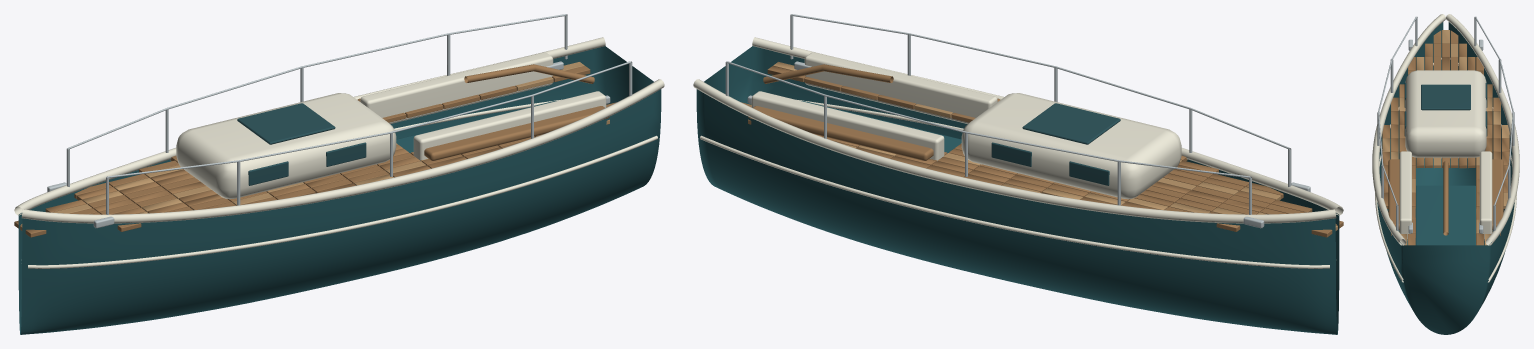
Rendered from boat-hull.glb.
3 renders of one model, left to right at view 1: azimuth 30°, elevation 25°; view 2: azimuth 150°, elevation 25°; view 3: azimuth 270°, elevation 25°, orthographic. The views are drawn at different scales.
Parts seen in each view (by area): view 1: boat-hull; view 2: boat-hull; view 3: boat-hull.
Part boxes in pixels (x1,y1,x2,y2): boat-hull: (14, 14, 664, 334); boat-hull: (693, 14, 1343, 334); boat-hull: (1372, 14, 1519, 334).
Bounding box in the file's own units: 4.28 × 1.15 × 1.18.
